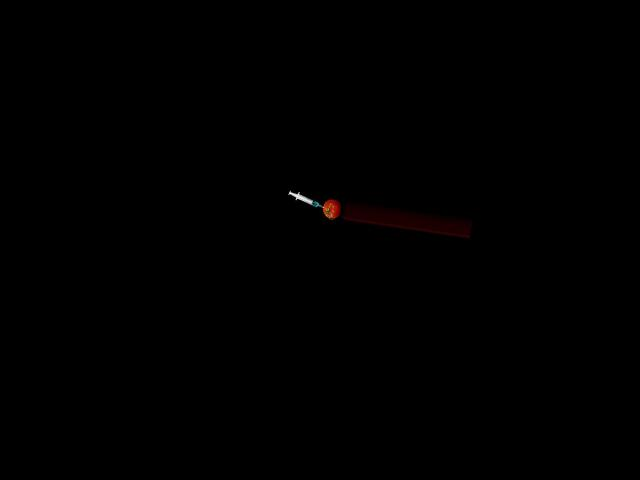tomato: (321, 197, 342, 219)
